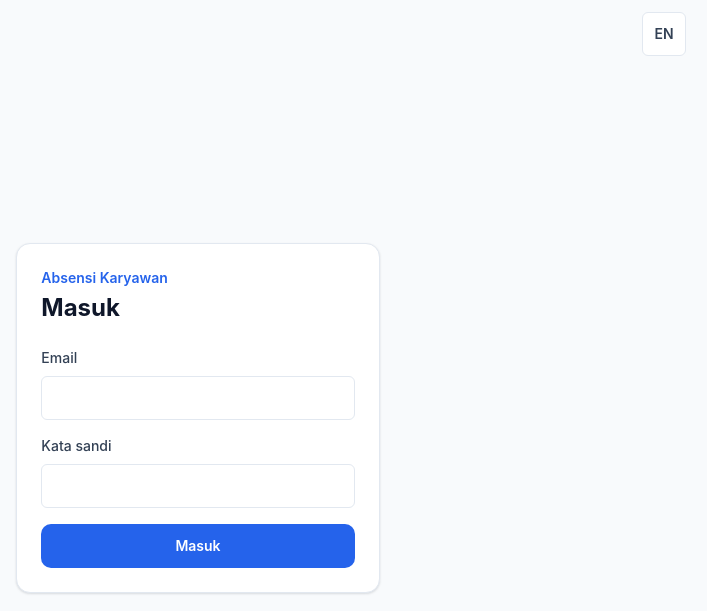
Test: language toggle on every screen › switches the sign-in screen to English immediately without a session change
Click the button with test id "lang-toggle" at [664, 34], box top-left (642, 12), bottom-right (686, 56)
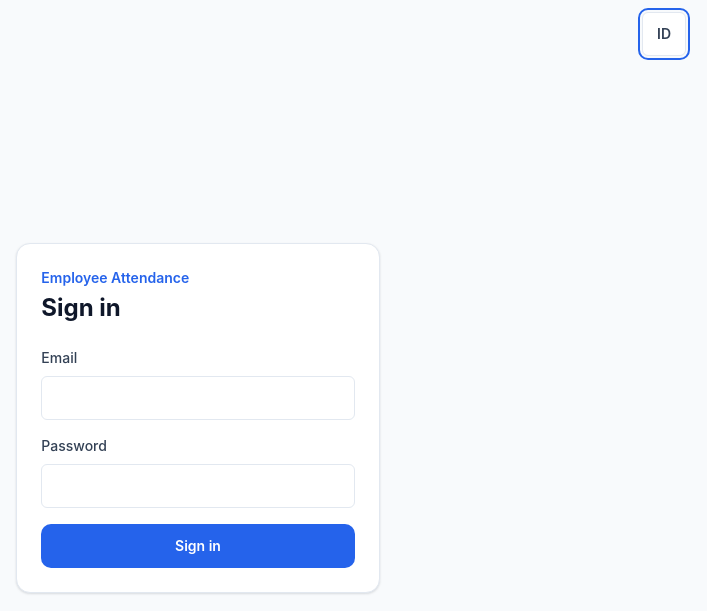
Expected: the button "Sign in" is shown, top-left (41, 524), bottom-right (355, 568)
Expected: the heading "Masuk" is gone
